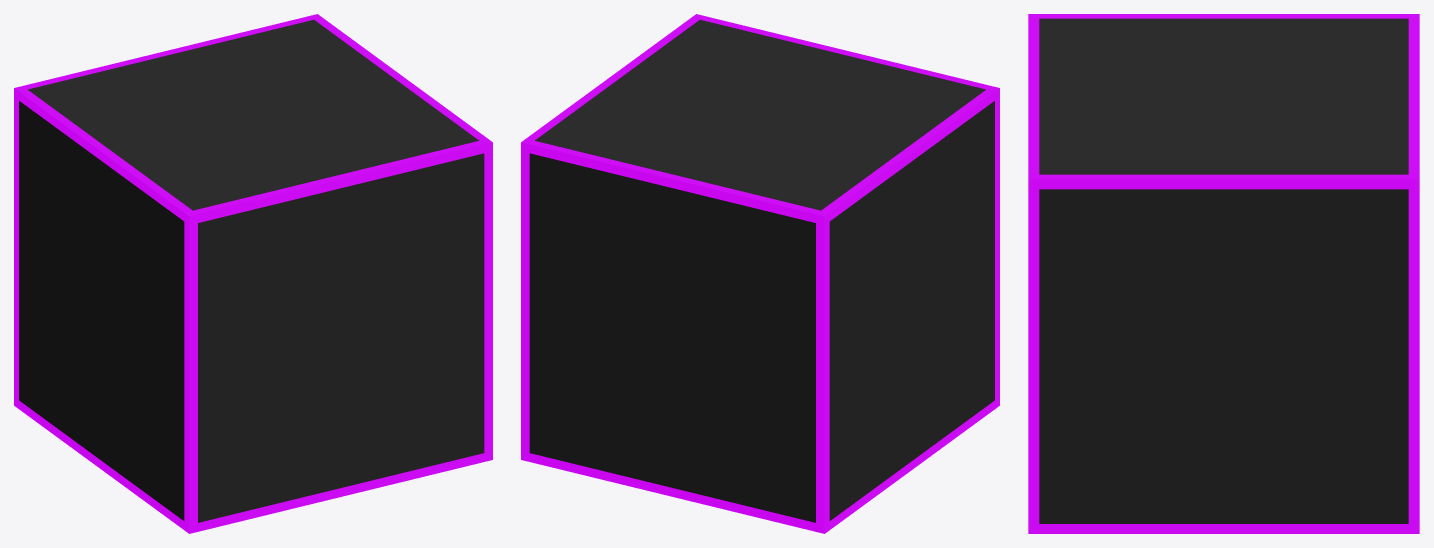
Rendered from GroundPink.glb.
3 renders of one model, left to right at view 1: azimuth 30°, elevation 25°; view 2: azimuth 150°, elevation 25°; view 3: azimuth 270°, elevation 25°, orthographic. The views are drawn at different scales.
Visible parts, largest first — view 1: Pink; view 2: Pink; view 3: Pink.
Part boxes in pixels (left/top/right/bottom): Pink: left=14, top=14, right=492, bottom=533; Pink: left=521, top=14, right=999, bottom=533; Pink: left=1028, top=14, right=1419, bottom=533.
Size of the model in its own units: 2 by 2 by 2.
